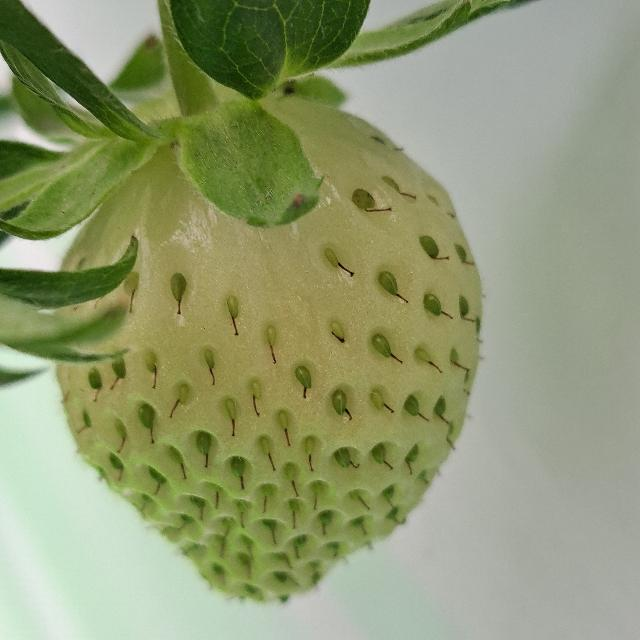Health_25: (55, 91, 482, 604)
